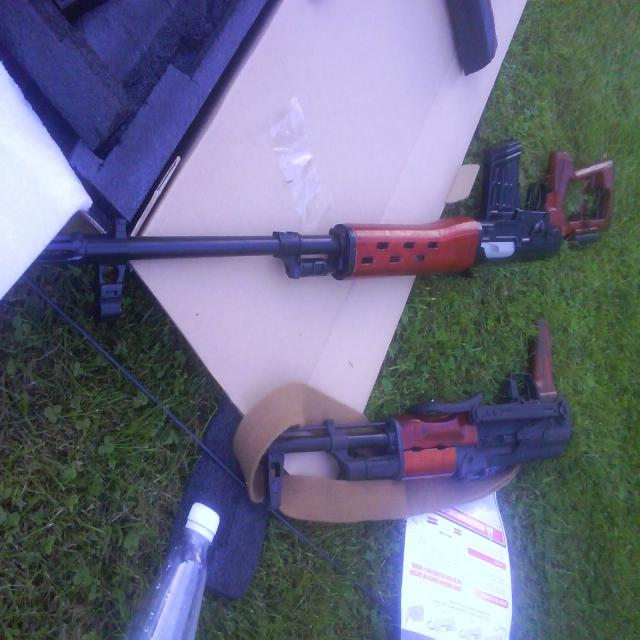firearm: (41, 143, 615, 316), (268, 325, 574, 515)
